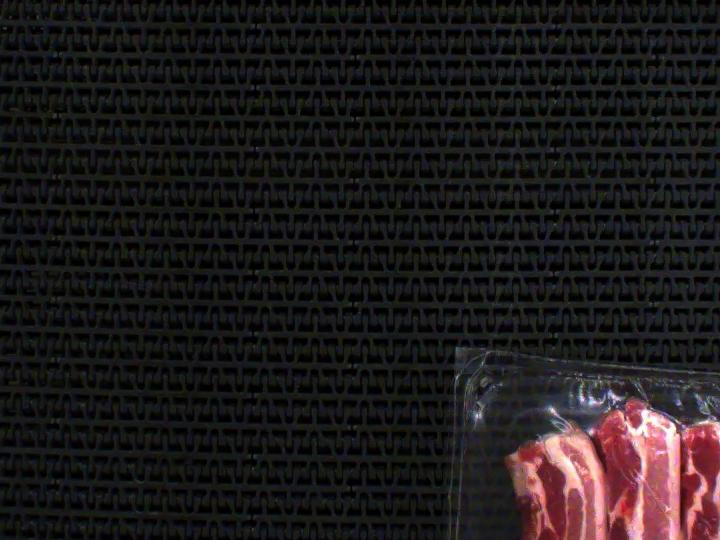unsealed: (490, 363, 720, 540)
